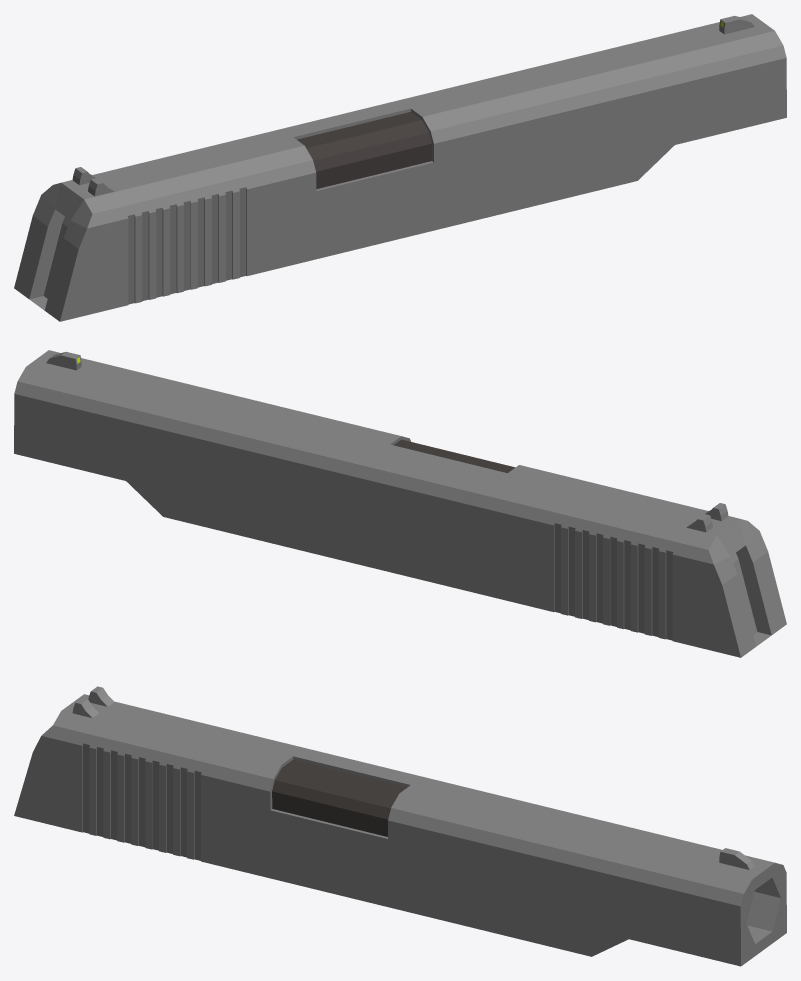
File: Pistol2_02_2.fbx
The picture shows the model from 3 angles, top to bottom: view 1: azimuth 30°, elevation 25°; view 2: azimuth 150°, elevation 25°; view 3: azimuth 330°, elevation 25°; orthographic projection.
Parts seen in each view (by area): view 1: Pistol2_02_2; view 2: Pistol2_02_2; view 3: Pistol2_02_2.
Part boxes in pixels (left/top/right/bottom): Pistol2_02_2: left=14, top=14, right=786, bottom=321; Pistol2_02_2: left=14, top=350, right=786, bottom=657; Pistol2_02_2: left=14, top=686, right=786, bottom=966.
Bounding box in the file's own units: 0.225 × 0.0345 × 0.0246.
